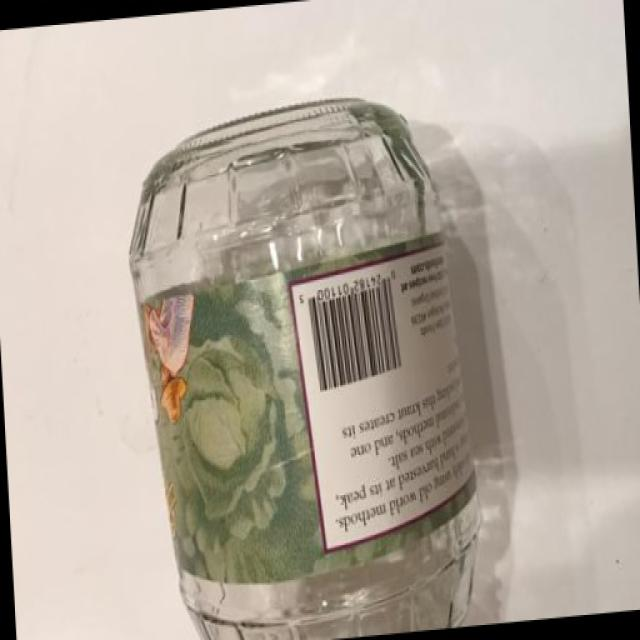vidrio: (144, 80, 497, 640)
